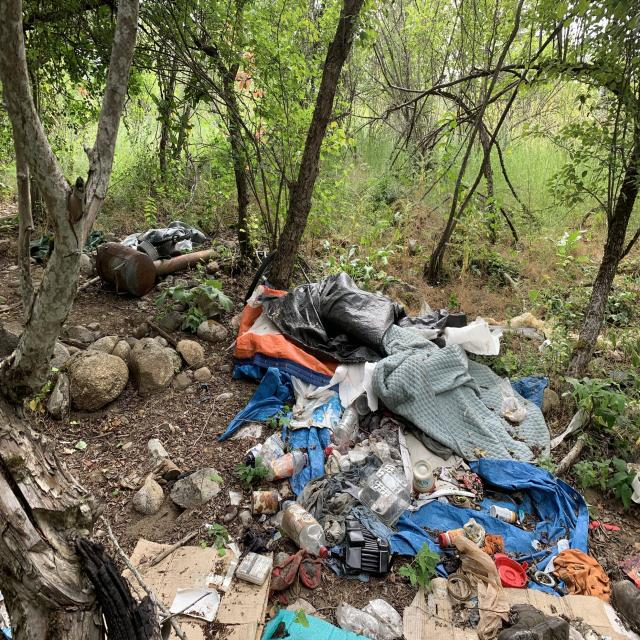Plastic: (279, 500, 330, 564), (332, 597, 400, 640), (496, 377, 526, 424), (266, 450, 309, 480), (332, 406, 358, 444), (437, 527, 466, 548), (489, 503, 518, 524)
Trash -everything else-: (356, 457, 410, 525), (552, 541, 611, 602), (497, 599, 569, 640), (607, 576, 640, 640), (492, 548, 528, 592), (235, 551, 273, 586), (255, 433, 283, 476), (411, 460, 437, 498), (154, 458, 181, 487)
